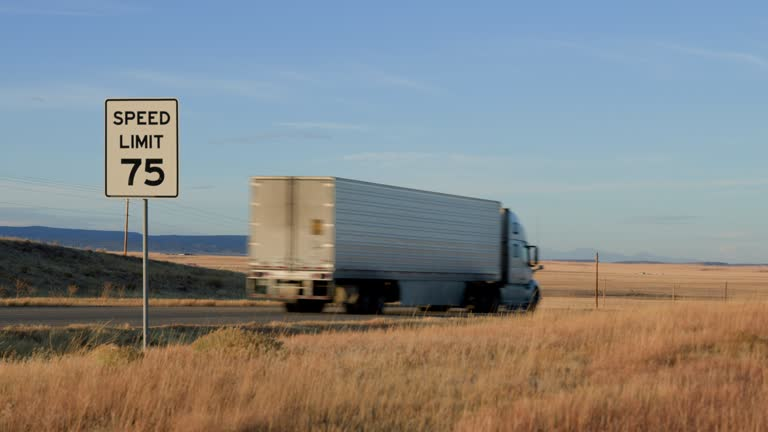SpeedLimitSign: (103, 96, 180, 199)
